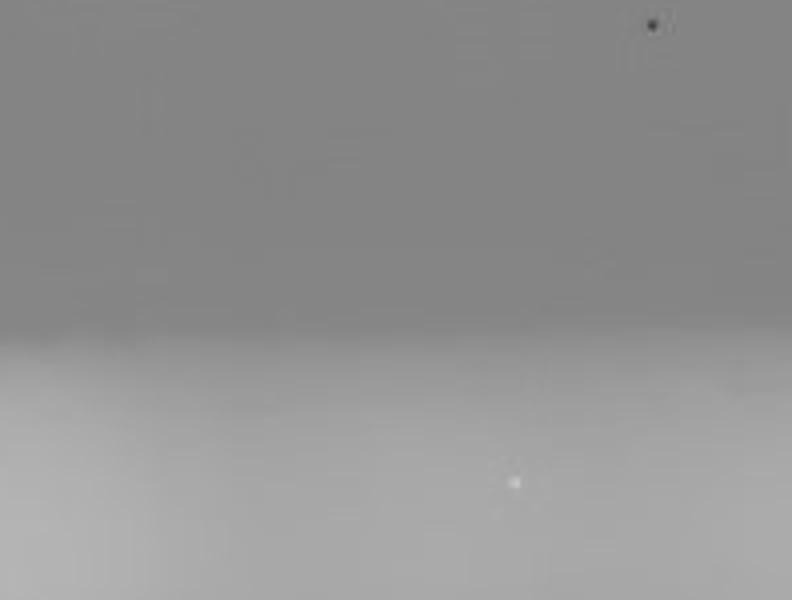defect: (649, 17, 661, 33)
